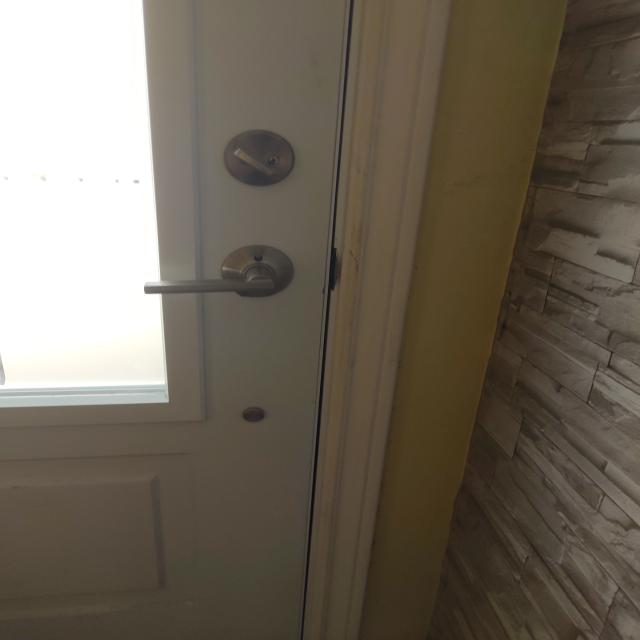door-handle: (144, 245, 294, 296)
